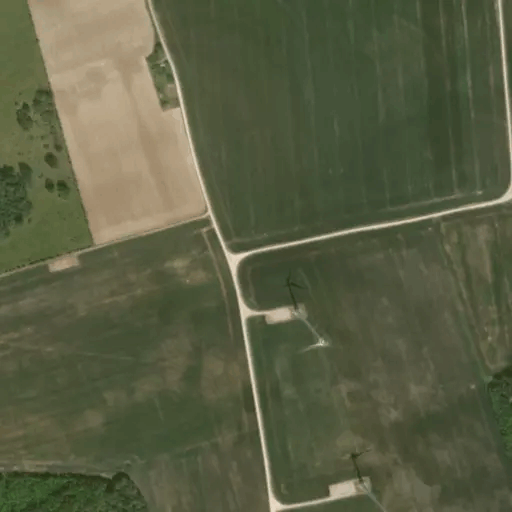wt: (272, 268, 345, 358), (338, 442, 392, 512)
